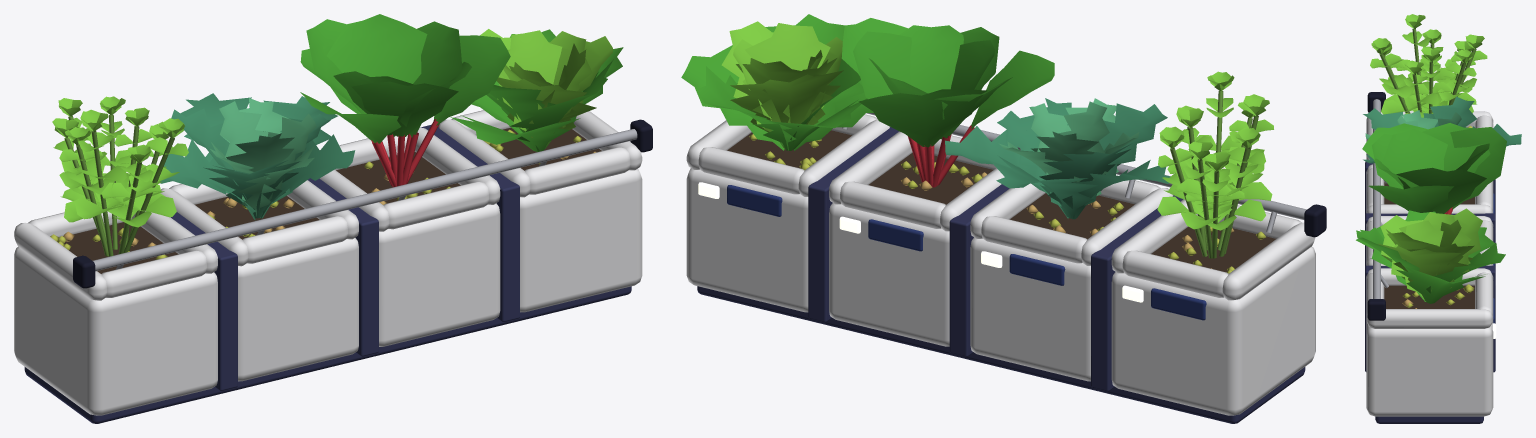
File: prop.props_workrooms.planter_row.glb
3 views of the same model, side by side, from view 1: azimuth 30°, elevation 25°; view 2: azimuth 150°, elevation 25°; view 3: azimuth 270°, elevation 25° (orthographic). The views are drawn at different scales.
Parts seen in each view (by area): view 1: prop.props_workrooms.planter_row; view 2: prop.props_workrooms.planter_row; view 3: prop.props_workrooms.planter_row.
Part boxes in pixels (box(x1,y1,x2,y2)): prop.props_workrooms.planter_row: box(14, 14, 652, 423); prop.props_workrooms.planter_row: box(681, 14, 1326, 423); prop.props_workrooms.planter_row: box(1356, 14, 1521, 423).
Bounding box in the file's own units: 1.71 × 0.7961 × 0.5497.
